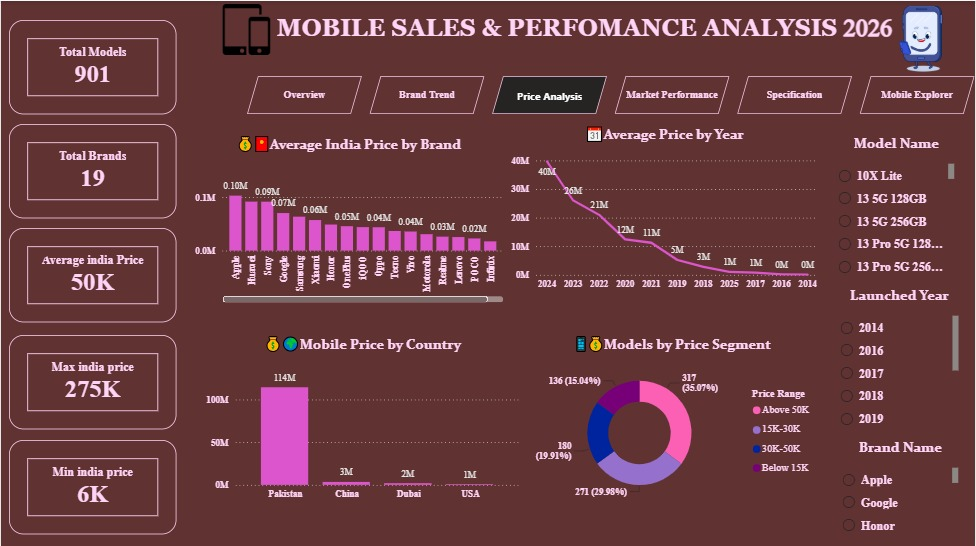

This screenshot's page, from the dashboard's own definition file:
{"tool":"powerbi","page":{"name":"Price Analysis ","canvas":[1280,720],"ordinal":2},"visuals":[{"type":"group","id":"g1","title":"Header","box":[357.5,0,922.5,98.7],"z":0},{"type":"textbox","box":[357.5,9.6,875.4,57.8],"z":0,"group":"g1"},{"type":"cardVisual","fields":{"Data":["Mobiles Dataset (2026).Total Models"]},"box":[10,24.3,220.2,124.4],"z":0,"group":"g2"},{"type":"image","box":[1137.9,0,141.8,99.1],"z":1000,"group":"g1"},{"type":"pageNavigator","box":[323.2,98.7,956.8,50.1],"z":1000},{"type":"cardVisual","fields":{"Data":["Mobiles Dataset (2026).Average India Price"]},"box":[10,297.5,220.2,124.4],"z":1000,"group":"g2"},{"type":"group","id":"g2","title":"KPIs","box":[10,24.3,220.2,676.5],"z":2000},{"type":"cardVisual","fields":{"Data":["Mobiles Dataset (2026).Maximum india price"]},"box":[10,437.6,220.2,124.4],"z":2000,"group":"g2"},{"type":"clusteredColumnChart","title":"💰🧧Average India Price by Brand","fields":{"Y":["Mobiles Dataset (2026).Average india Price"],"Category":["Mobiles Dataset (2026).Company Name"]},"box":[250,174.1,415.3,226.2],"z":3000},{"type":"cardVisual","fields":{"Data":["Mobiles Dataset (2026).Min india price"]},"box":[10,576.3,220.2,124.4],"z":3000,"group":"g2"},{"type":"cardVisual","fields":{"Data":["Mobiles Dataset (2026).Total Brands"]},"box":[10,161.6,220.2,124.4],"z":4000,"group":"g2"},{"type":"clusteredColumnChart","title":"💰🌍Mobile Price by Country","fields":{"Category":["Mobiles Dataset (2026).Country"],"Y":["Sum(Mobiles Dataset (2026).Price)"]},"box":[263.4,437.6,422.7,226.2],"z":4000},{"type":"listSlicer","title":"Model Name","fields":{"Values":["Mobiles Dataset (2026).Model Name"]},"box":[1094.2,174.8,163.8,199.6],"z":5000},{"type":"listSlicer","title":"Brand Name","fields":{"Values":["Mobiles Dataset (2026).Company Name"]},"box":[1099.7,573.9,163.8,129.4],"z":6000},{"type":"listSlicer","title":"Launched Year","fields":{"Values":["Mobiles Dataset (2026).Launched Year"]},"box":[1096.9,374.4,166.5,199.6],"z":7000},{"type":"lineChart","title":"📆Average Price by Year","fields":{"Category":["Mobiles Dataset (2026).Launched Year"],"Y":["Sum(Mobiles Dataset (2026).Price)"]},"box":[665.3,162.2,413.8,226.2],"z":8000},{"type":"donutChart","title":"📱💰Models by Price Segment","fields":{"Category":["Mobiles Dataset (2026).Price Range"],"Y":["Mobiles Dataset (2026).Total Models"]},"box":[686,438,393,226],"z":9000},{"type":"image","box":[265.6,4,114.2,67.4],"z":10000}]}

Visuals, with their boxes in screenshot pixels (x1, y1, x2, y2), scaled from the page's 1280x720 canvas onto the 976x546 screenshot:
"Header" group: box=[273, 0, 975, 75]
textbox: box=[273, 7, 940, 51]
cardVisual - Mobiles Dataset (2026).Total Models: box=[8, 18, 176, 113]
image: box=[868, 0, 975, 75]
pageNavigator: box=[246, 75, 975, 113]
cardVisual - Mobiles Dataset (2026).Average India Price: box=[8, 226, 176, 320]
"KPIs" group: box=[8, 18, 176, 531]
cardVisual - Mobiles Dataset (2026).Maximum india price: box=[8, 332, 176, 426]
"💰🧧Average India Price by Brand" clusteredColumnChart: box=[191, 132, 507, 304]
cardVisual - Mobiles Dataset (2026).Min india price: box=[8, 437, 176, 531]
cardVisual - Mobiles Dataset (2026).Total Brands: box=[8, 123, 176, 217]
"💰🌍Mobile Price by Country" clusteredColumnChart: box=[201, 332, 523, 503]
"Model Name" listSlicer: box=[834, 133, 959, 284]
"Brand Name" listSlicer: box=[839, 435, 963, 533]
"Launched Year" listSlicer: box=[836, 284, 963, 435]
"📆Average Price by Year" lineChart: box=[507, 123, 823, 295]
"📱💰Models by Price Segment" donutChart: box=[523, 332, 823, 504]
image: box=[203, 3, 290, 54]
